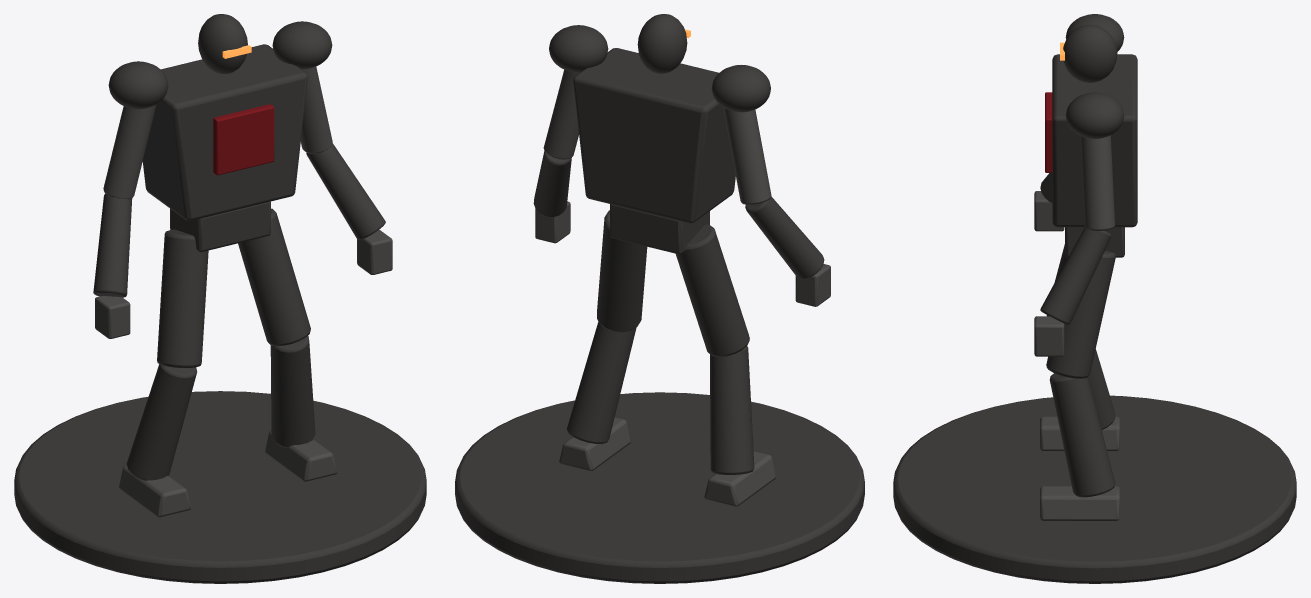
The model's file is covenant_frame_titan.glb.
3 views of the same model, side by side, from view 1: azimuth 30°, elevation 25°; view 2: azimuth 150°, elevation 25°; view 3: azimuth 270°, elevation 25° (orthographic). The views are drawn at different scales.
Parts seen in each view (by area): view 1: standin_base, t, standin_thigh_R, standin_thigh_L, standin_shin_R, standin_shin_L, tp, standin_forearm_R, standin_forearm_L, standin_pelvis, standin_arm_R, standin_pauldron_R (+7 smaller); view 2: standin_base, t, standin_thigh_R, standin_shin_R, standin_shin_L, standin_thigh_L, standin_arm_R, standin_pelvis, standin_forearm_R, h, standin_pauldron_R, standin_pauldron_L (+6 smaller); view 3: standin_base, t, standin_shin_L, standin_thigh_L, standin_forearm_L, standin_arm_L, h, standin_foot_L, standin_pauldron_L, standin_hand_L, standin_foot_R, standin_shin_R (+4 smaller).
Boxes of the visible parts, x1=… form: standin_base: x1=14, y1=391, x2=426, y2=583; t: x1=142, y1=44, x2=307, y2=220; standin_thigh_R: x1=157, y1=229, x2=208, y2=367; standin_thigh_L: x1=238, y1=208, x2=310, y2=346; standin_shin_R: x1=126, y1=364, x2=197, y2=480; standin_shin_L: x1=270, y1=335, x2=315, y2=447; tp: x1=213, y1=104, x2=274, y2=175; standin_forearm_R: x1=93, y1=193, x2=132, y2=297; standin_forearm_L: x1=306, y1=143, x2=385, y2=239; standin_pelvis: x1=170, y1=201, x2=270, y2=252; standin_arm_R: x1=103, y1=104, x2=156, y2=199; standin_pauldron_R: x1=108, y1=61, x2=168, y2=109; standin_base: x1=455, y1=392, x2=864, y2=583; t: x1=573, y1=48, x2=735, y2=223; standin_thigh_R: x1=676, y1=224, x2=749, y2=356; standin_shin_R: x1=710, y1=346, x2=754, y2=474; standin_shin_L: x1=566, y1=321, x2=636, y2=443; standin_thigh_L: x1=597, y1=210, x2=647, y2=332; standin_arm_R: x1=723, y1=107, x2=771, y2=204; standin_pelvis: x1=610, y1=204, x2=709, y2=254; standin_forearm_R: x1=745, y1=196, x2=824, y2=279; h: x1=637, y1=14, x2=687, y2=73; standin_pauldron_R: x1=711, y1=65, x2=770, y2=112; standin_pauldron_L: x1=549, y1=25, x2=608, y2=72; standin_base: x1=893, y1=395, x2=1296, y2=583; t: x1=1052, y1=54, x2=1137, y2=227; standin_shin_L: x1=1049, y1=373, x2=1115, y2=497; standin_thigh_L: x1=1046, y1=246, x2=1115, y2=378; standin_forearm_L: x1=1040, y1=227, x2=1111, y2=324; standin_arm_L: x1=1080, y1=135, x2=1114, y2=230; h: x1=1063, y1=24, x2=1117, y2=82; standin_foot_L: x1=1040, y1=486, x2=1119, y2=520; standin_pauldron_L: x1=1065, y1=92, x2=1124, y2=138; standin_hand_L: x1=1034, y1=316, x2=1064, y2=356; standin_foot_R: x1=1040, y1=416, x2=1119, y2=450; standin_shin_R: x1=1088, y1=349, x2=1115, y2=429.
Size of the model in its own units: 50 by 64.82 by 50.
